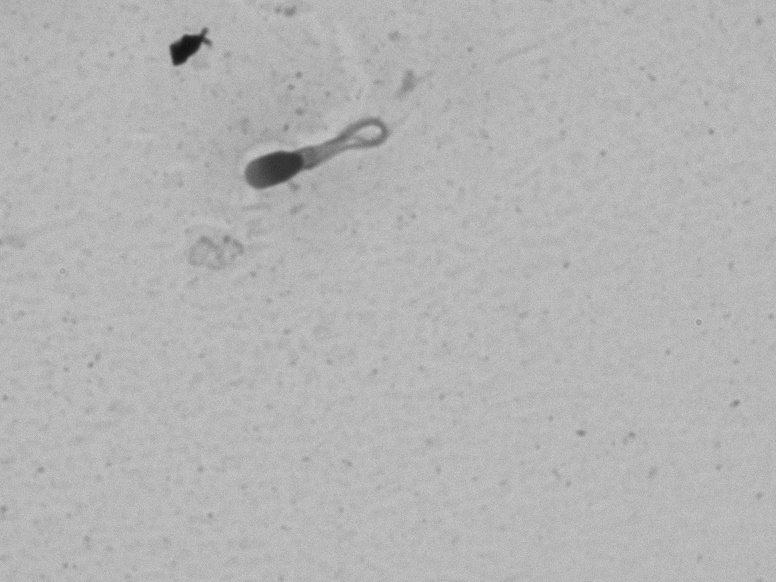Abnormal: (233, 99, 426, 221)
